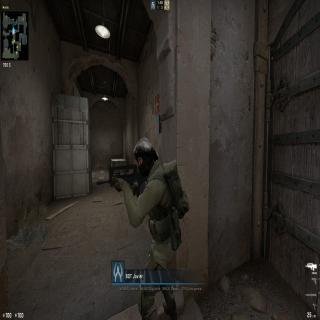CT-Head: (133, 134, 160, 178)
